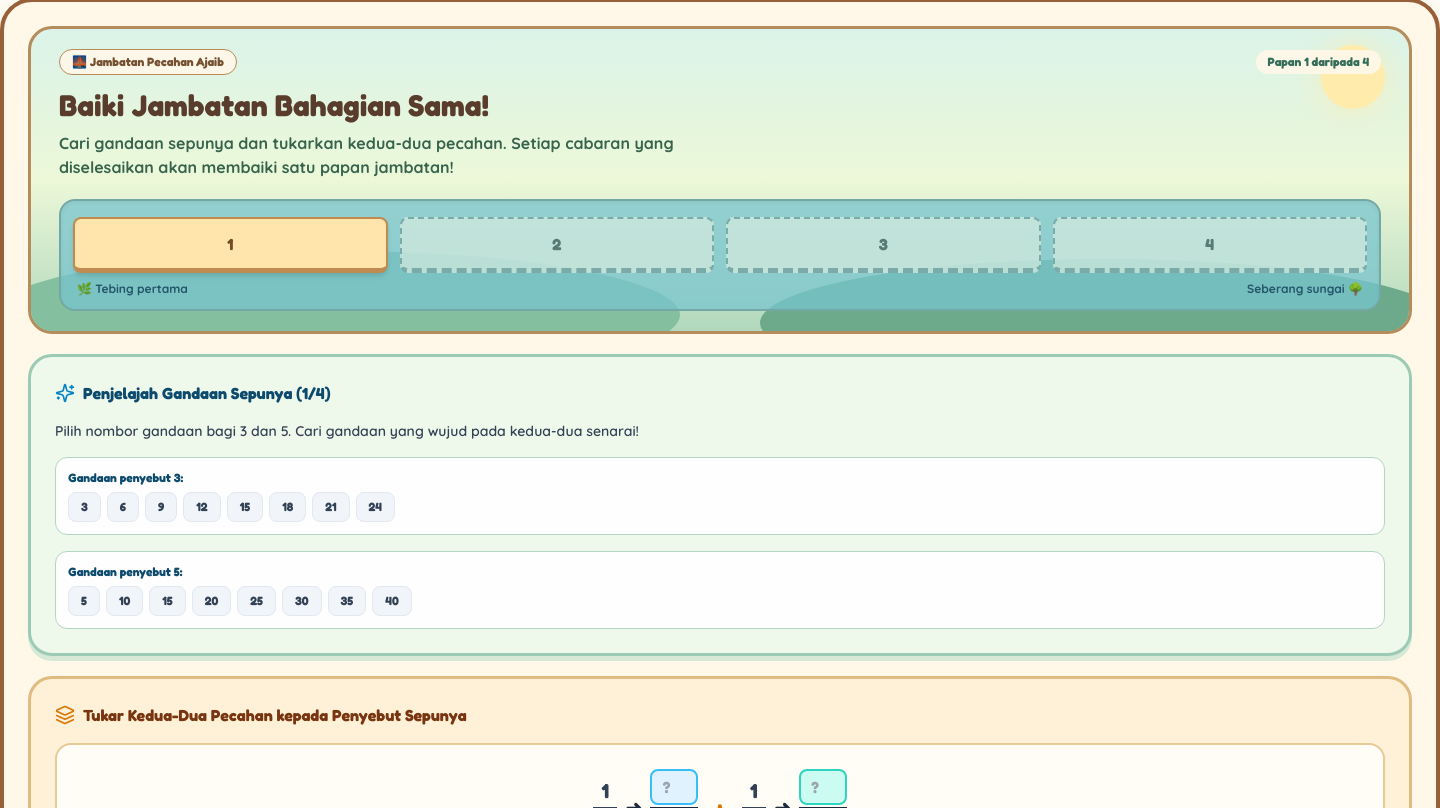
Test: Chapter3Activity Component › validates common denominator fraction conversion correctly
Type "5" into the 1st number field with placeholder "?" at (674, 787), box [650,769,698,805]
(page scrolled)
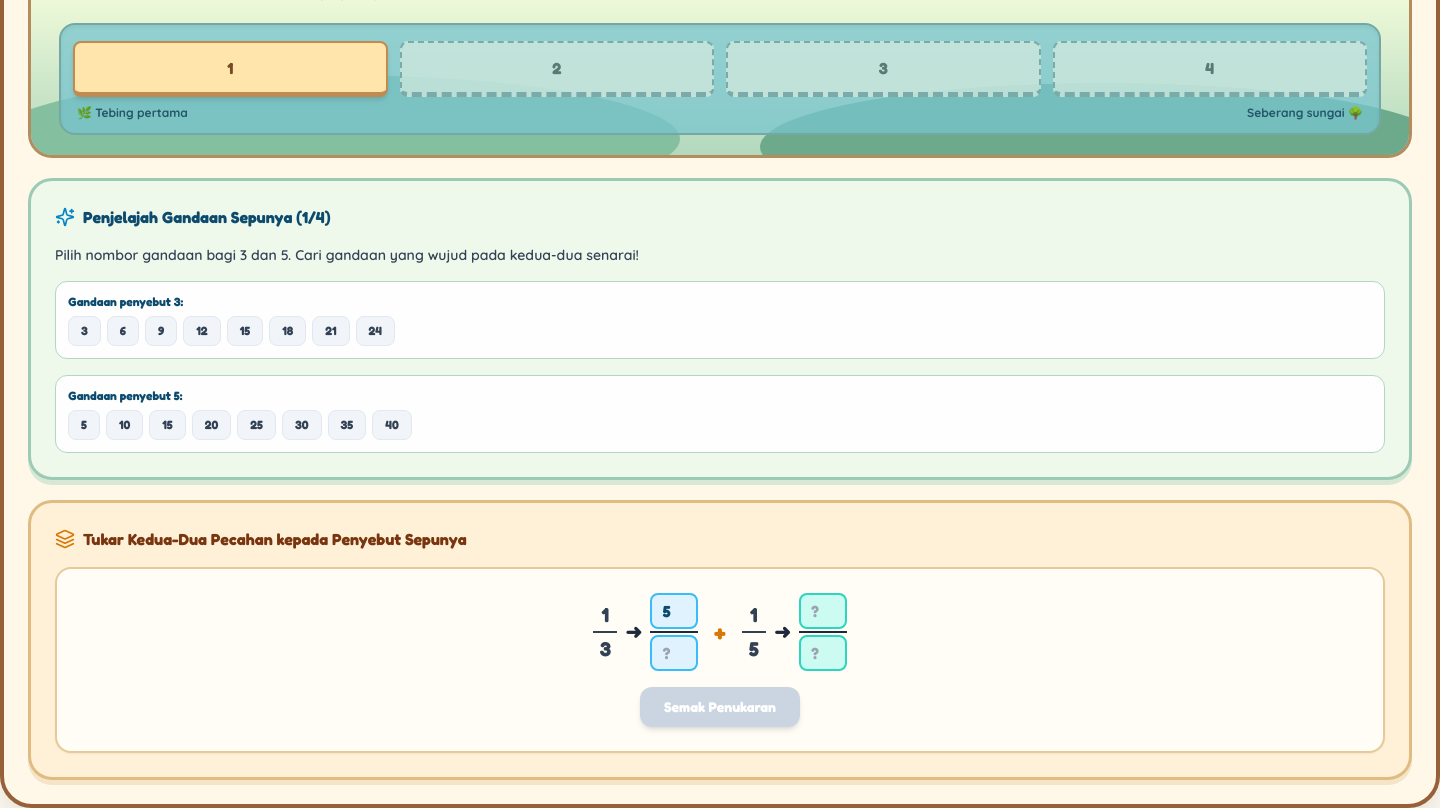
Type "15" into the 2nd number field with placeholder "?" at (674, 653), box [650,635,698,671]
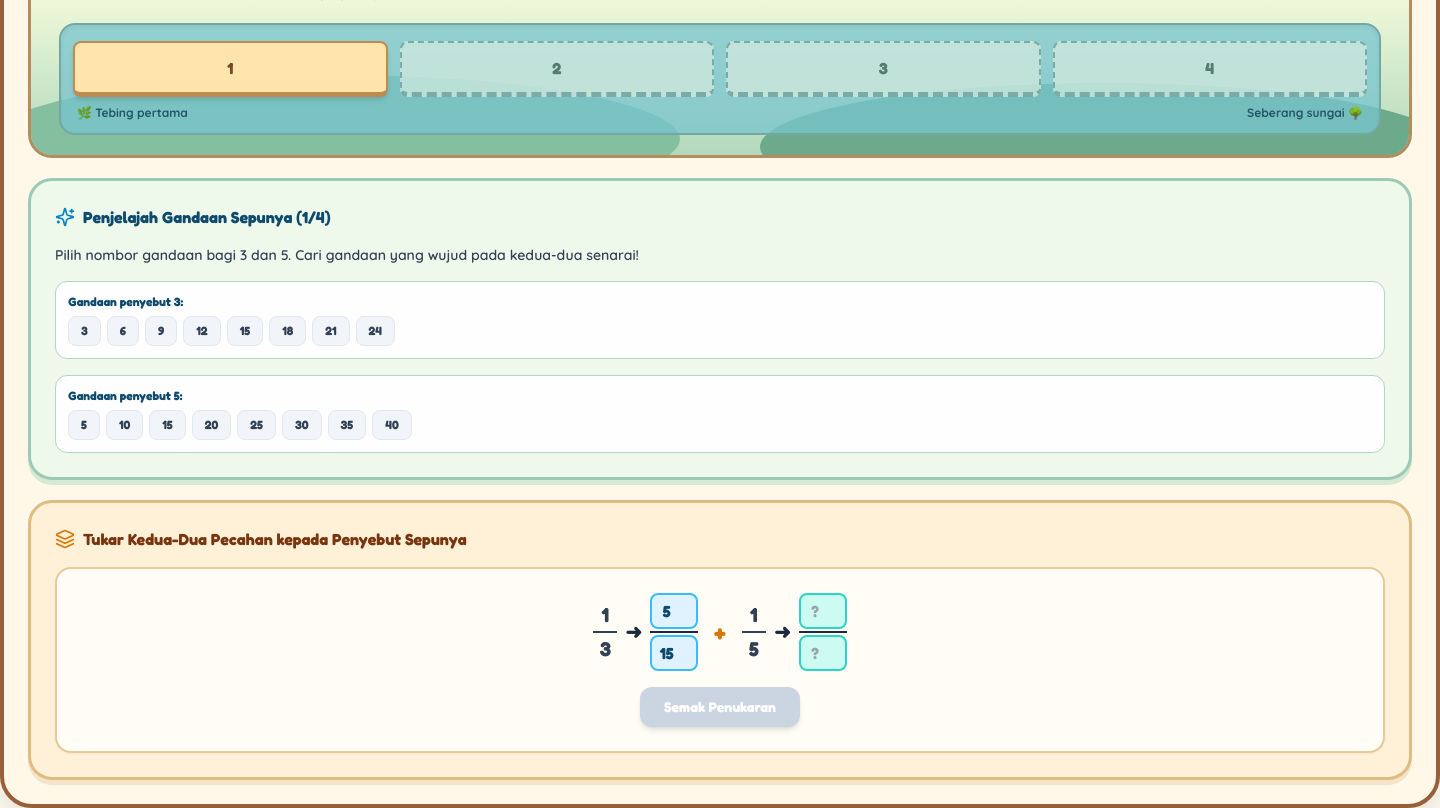
Type "3" into the 1st number field with placeholder "?" at (823, 611), box [799,593,847,629]
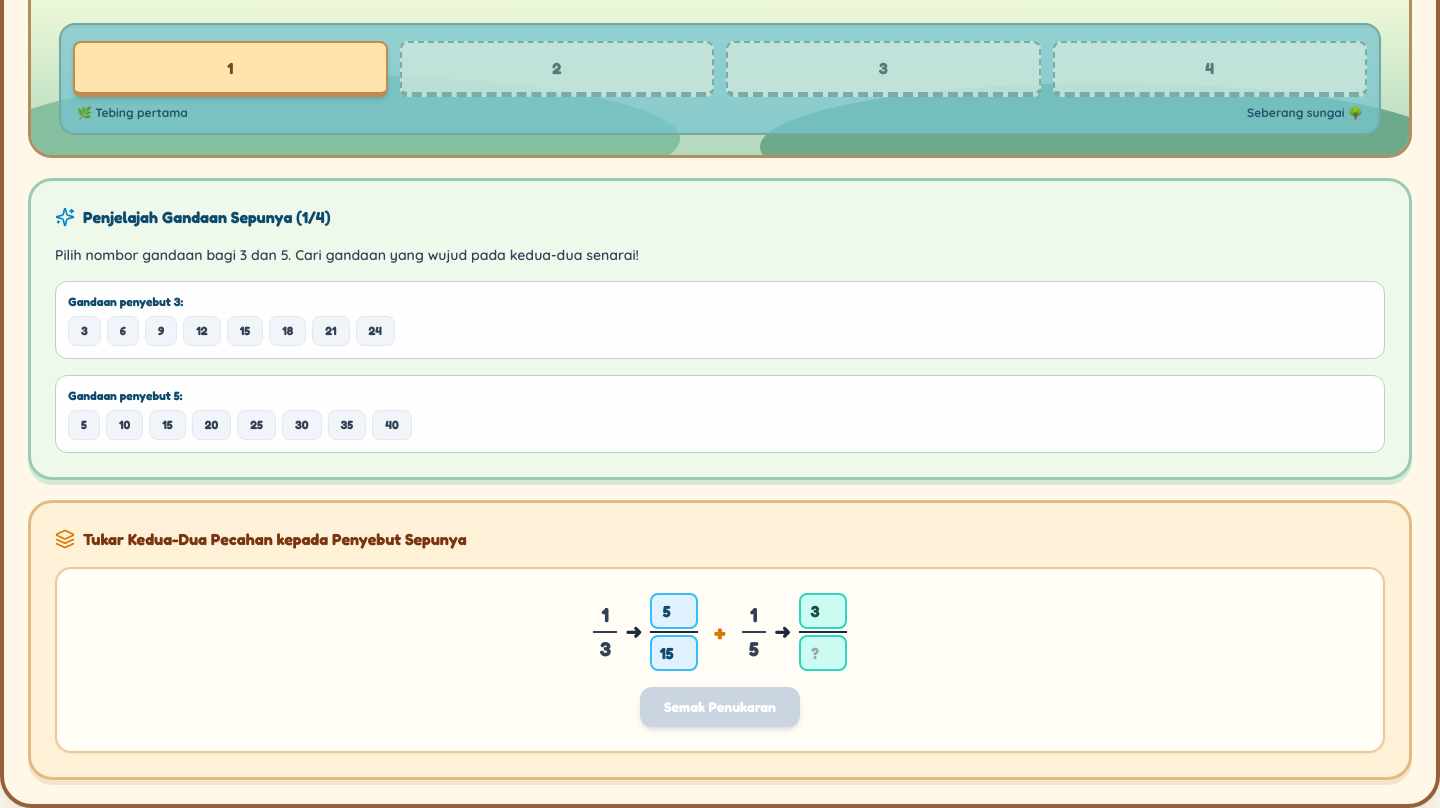
Type "15" into the number field with placeholder "?" at (823, 653), box [799,635,847,671]
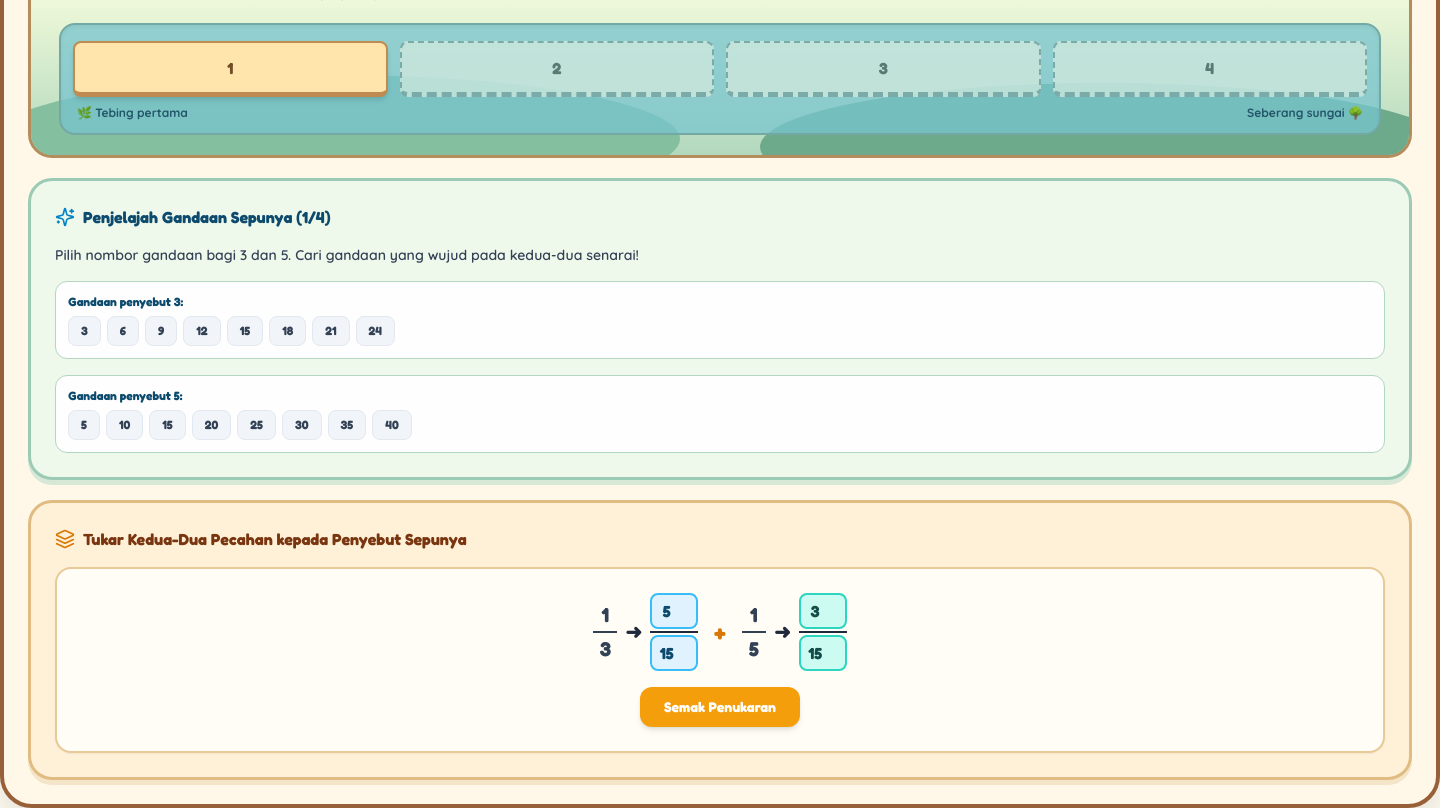
Click the button "Semak Penukaran" at (720, 707), box [640,687,800,727]
(page scrolled)
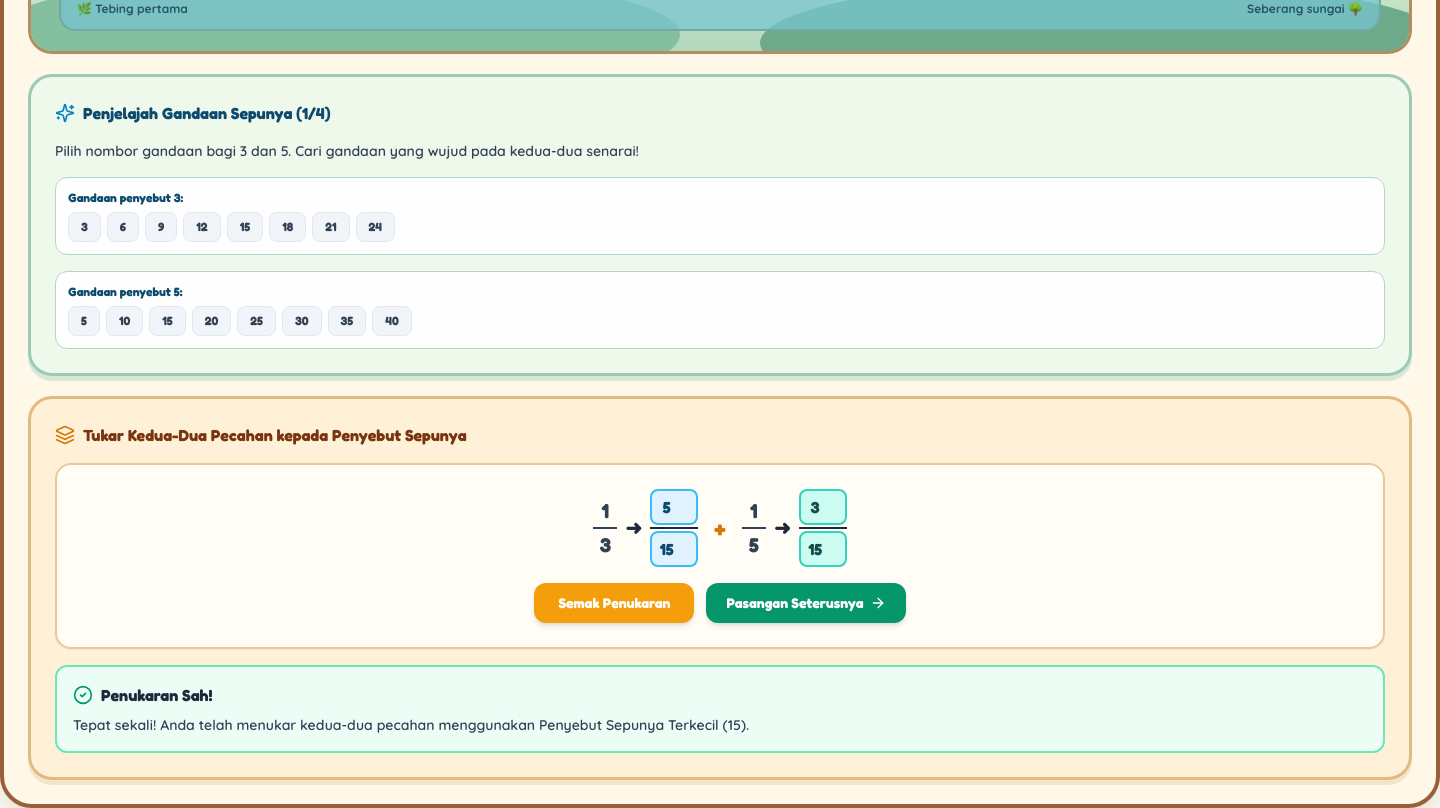
Check: the heading "Penukaran Sah!" is shown, box [101,683,213,707]
